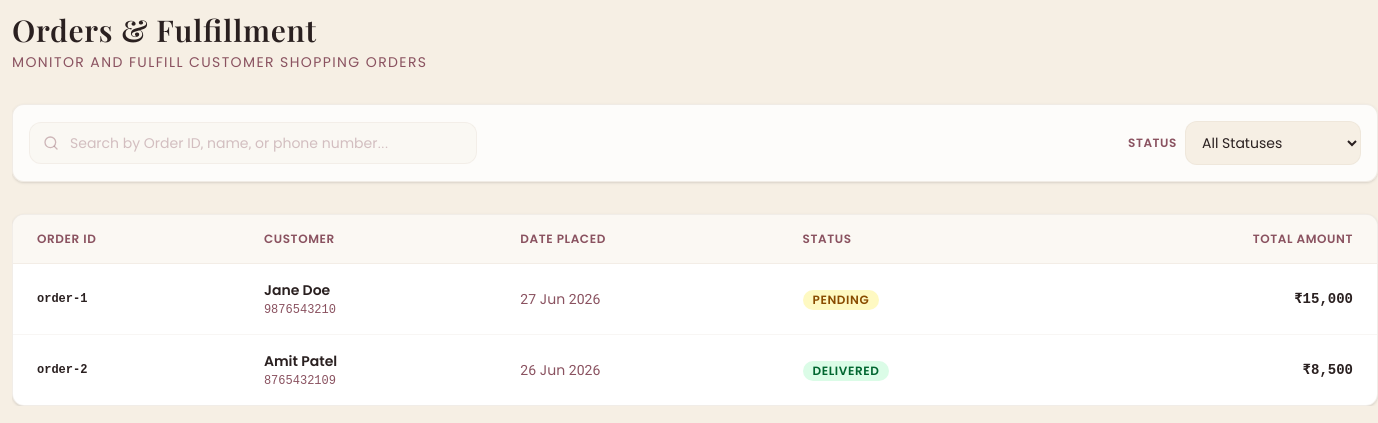
AdminOrdersPage › filters orders by search term
Type "Jane" into the field with placeholder "Search by Order ID, name, or phone number..." at (253, 143), box [29,122,477,164]
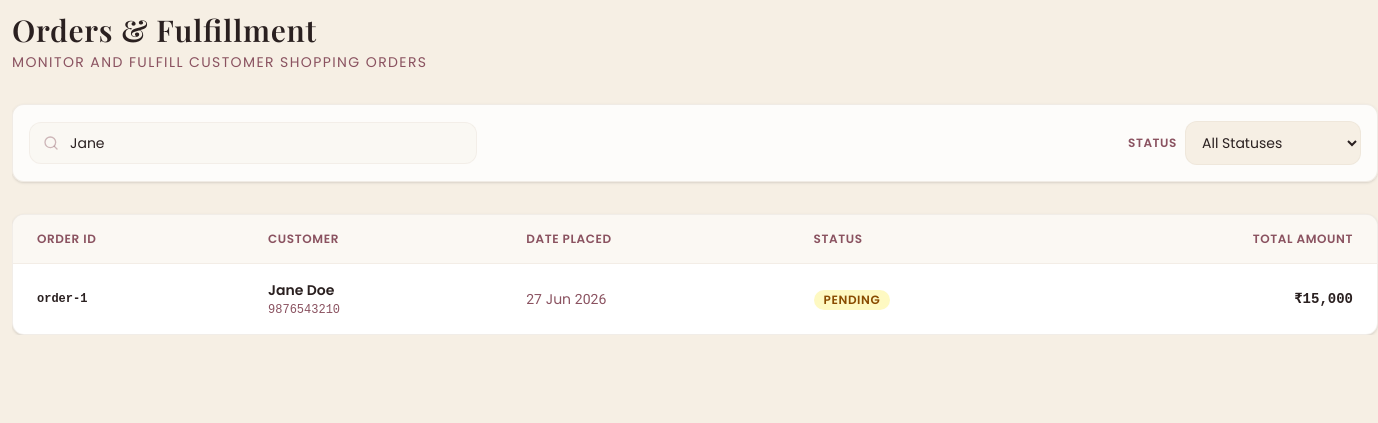
Check: the text "Jane Doe" is shown, box [268,280,334,300]
Check: the text "Amit Patel" is gone
